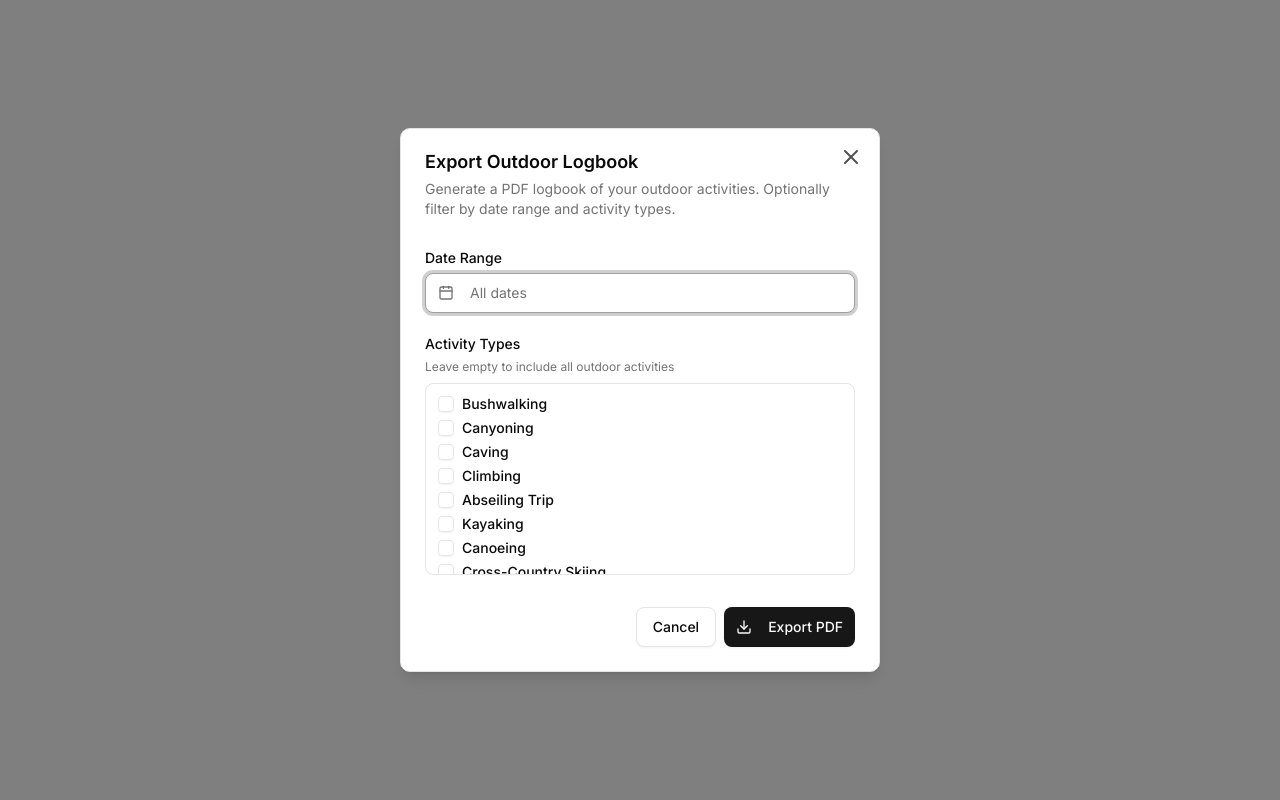
Scenario: LogbookExportDialog › shows clear filters button when types are selected
Select a type
Click the checkbox with test id "export-type-CANYONING": [446, 428] box left=438, top=420, right=454, bottom=436
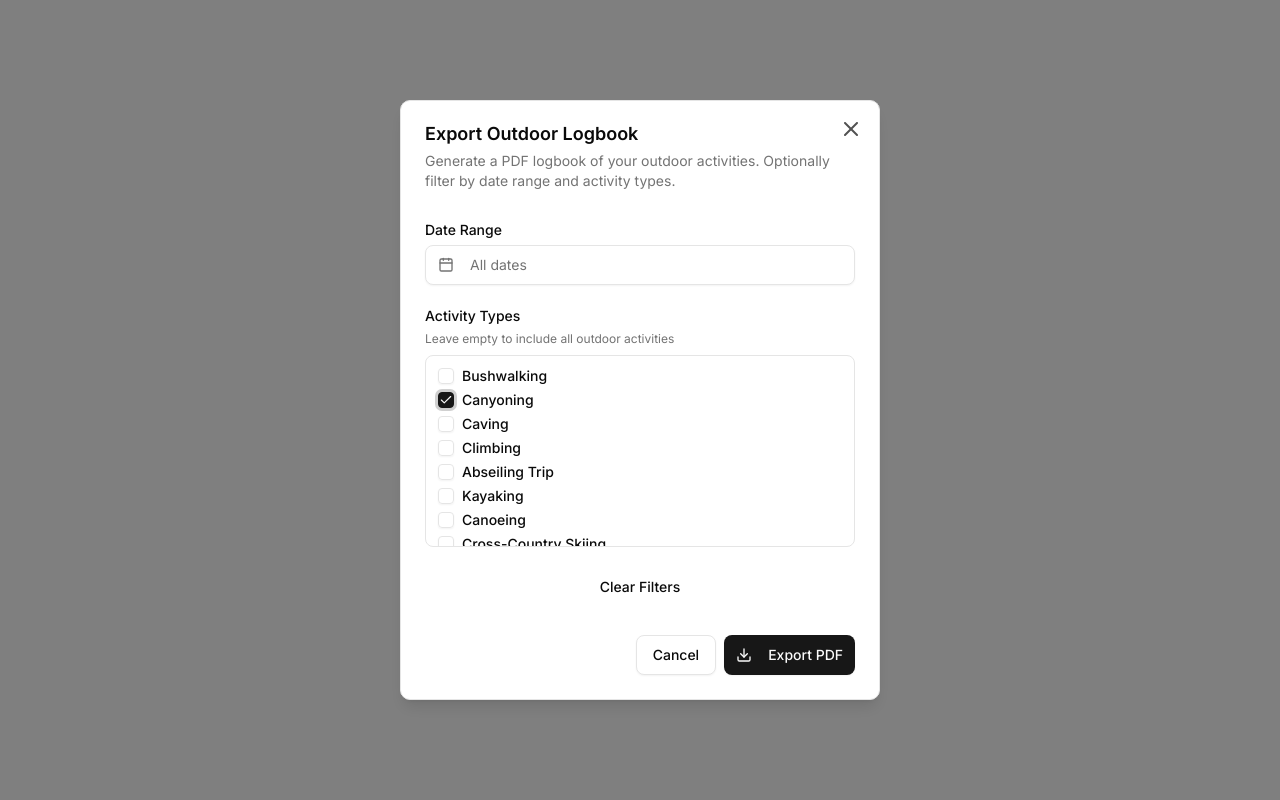
Expected: the button with test id "export-clear-filters" is shown, left=425, top=571, right=855, bottom=603
